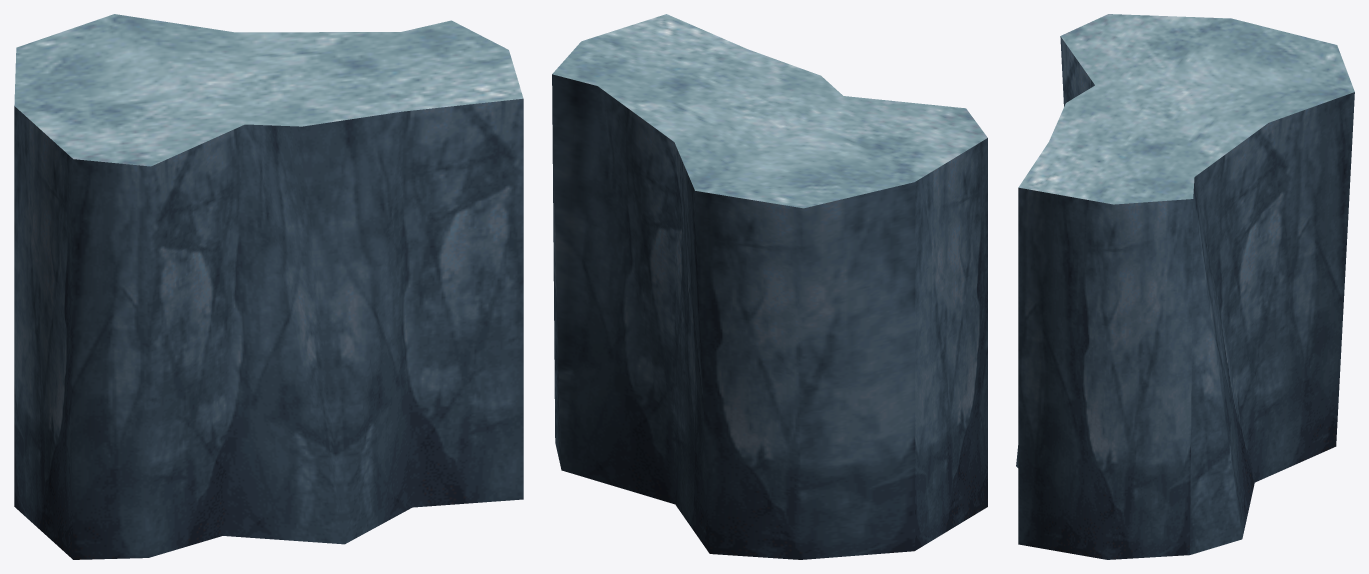
The picture shows the model from 3 angles, left to right: view 1: azimuth 30°, elevation 25°; view 2: azimuth 150°, elevation 25°; view 3: azimuth 270°, elevation 25°; orthographic projection. The views are drawn at different scales.
Parts seen in each view (by area): view 1: wj08; view 2: wj08; view 3: wj08.
Part boxes in pixels (x1,y1,x2,y2): wj08: [14, 14, 523, 559]; wj08: [552, 14, 987, 559]; wj08: [1016, 14, 1354, 559].
Size of the model in its own units: 1260 by 1101 by 947.
1 material, 1 textured.
